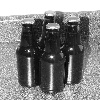beer: (40, 23, 66, 94)
